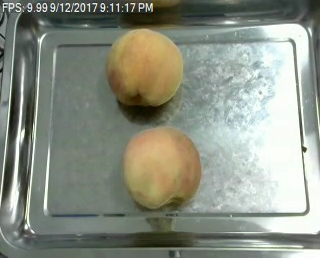Peach: (122, 125, 202, 209), (105, 27, 184, 107)
